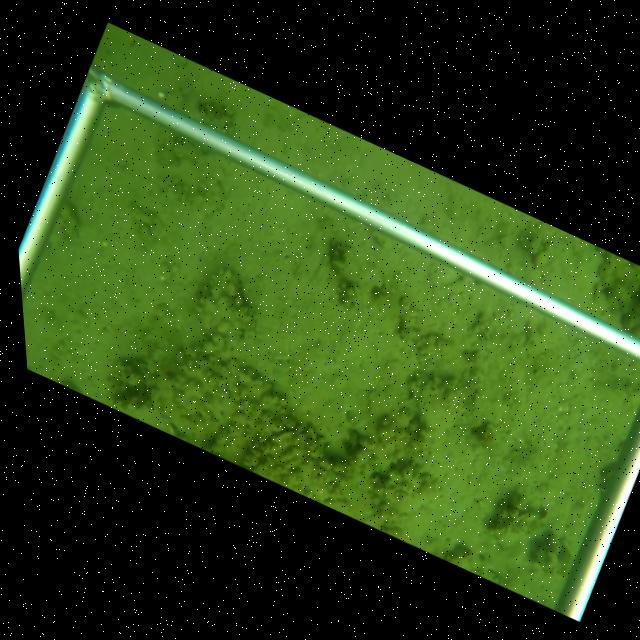Oyster-Closed: (259, 425, 307, 466), (490, 509, 538, 541)
